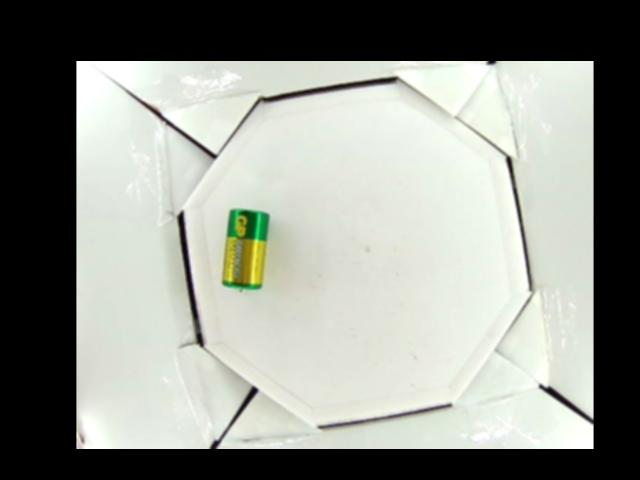Battery: (219, 207, 268, 292)
